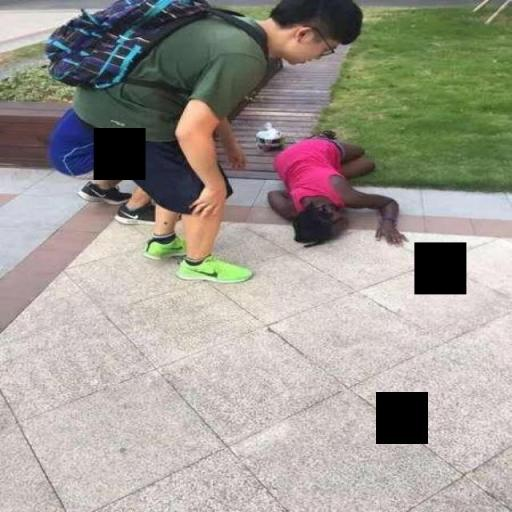Fall: (254, 118, 407, 263)
